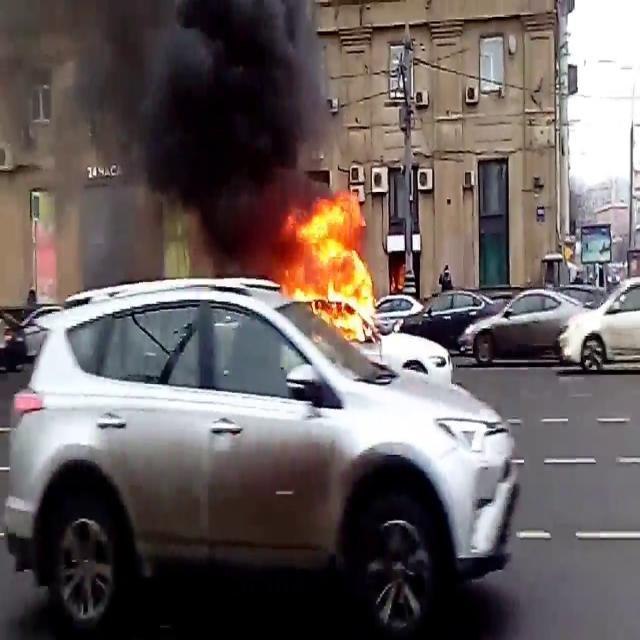Fire: (278, 190, 382, 334)
Smoke: (1, 0, 333, 251)
